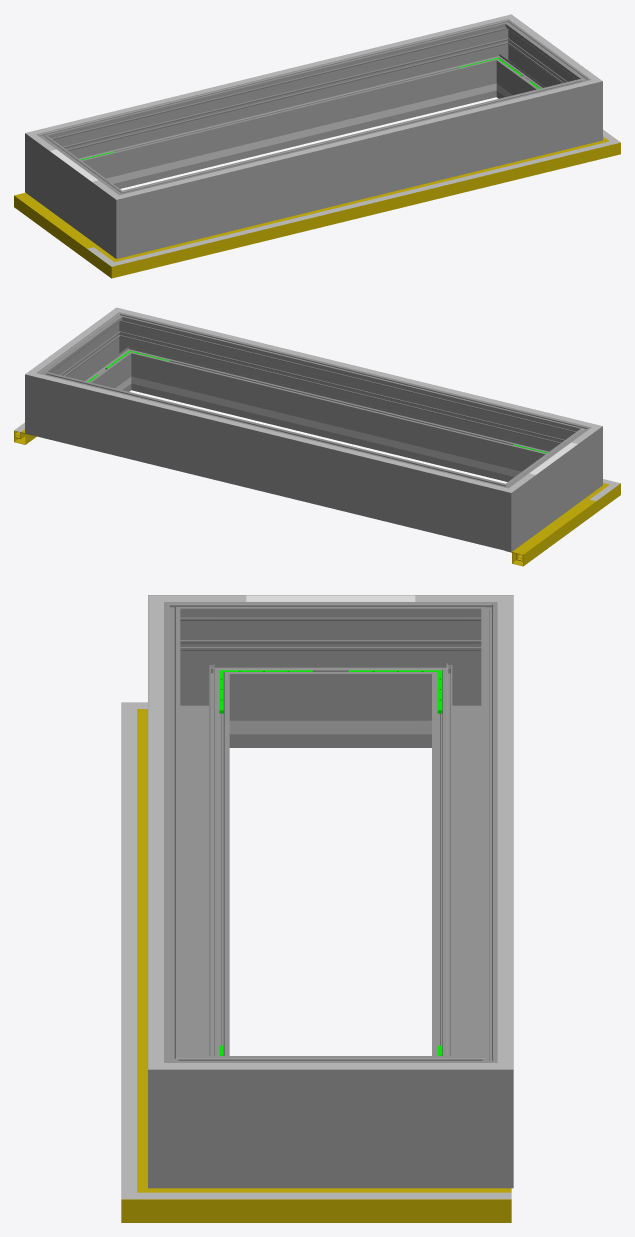
3 views of the same model, one above another, from view 1: azimuth 30°, elevation 25°; view 2: azimuth 150°, elevation 25°; view 3: azimuth 270°, elevation 25° (orthographic). The views are drawn at different scales.
Visible parts, largest first — view 1: 3DGeom-276, 3DGeom-298, 3DGeom-11, 3DGeom-270, 3DGeom-290, 3DGeom-268, 3DGeom-244, 3DGeom-284, 3DGeom-297, 3DGeom-278, 3DGeom-20, 3DGeom-304 (+6 smaller); view 2: 3DGeom-298, 3DGeom-276, 3DGeom-278, 3DGeom-284, 3DGeom-268, 3DGeom-239, 3DGeom-290, 3DGeom-297, 3DGeom-270, 3DGeom-304, 3DGeom-316, 3DGeom-6 (+3 smaller); view 3: 3DGeom-298, 3DGeom-276, 3DGeom-268, 3DGeom-297, 3DGeom-284, 3DGeom-290, 3DGeom-278, 3DGeom-270, 3DGeom-16, 3DGeom-20, 3DGeom-304, 3DGeom-316 (+12 smaller).
Part boxes in pixels (x1=…): 3DGeom-276: x1=71, y1=27, x2=489, y2=188; 3DGeom-298: x1=151, y1=86, x2=560, y2=248; 3DGeom-11: x1=148, y1=148, x2=578, y2=267; 3DGeom-270: x1=92, y1=178, x2=158, y2=258; 3DGeom-290: x1=552, y1=63, x2=602, y2=150; 3DGeom-268: x1=49, y1=147, x2=105, y2=240; 3DGeom-244: x1=121, y1=93, x2=455, y2=181; 3DGeom-284: x1=473, y1=14, x2=528, y2=98; 3DGeom-297: x1=500, y1=32, x2=577, y2=97; 3DGeom-278: x1=25, y1=125, x2=87, y2=209; 3DGeom-20: x1=150, y1=150, x2=577, y2=256; 3DGeom-304: x1=68, y1=25, x2=472, y2=125; 3DGeom-298: x1=138, y1=321, x2=556, y2=481; 3DGeom-276: x1=67, y1=379, x2=476, y2=541; 3DGeom-278: x1=469, y1=472, x2=535, y2=552; 3DGeom-284: x1=25, y1=356, x2=75, y2=443; 3DGeom-268: x1=522, y1=440, x2=578, y2=533; 3DGeom-239: x1=172, y1=386, x2=505, y2=474; 3DGeom-290: x1=97, y1=307, x2=154, y2=391; 3DGeom-297: x1=56, y1=326, x2=127, y2=391; 3DGeom-270: x1=540, y1=419, x2=602, y2=502; 3DGeom-304: x1=68, y1=382, x2=472, y2=482; 3DGeom-316: x1=155, y1=318, x2=559, y2=418; 3DGeom-6: x1=506, y1=498, x2=596, y2=566; 3DGeom-298: x1=148, y1=636, x2=229, y2=1055; 3DGeom-276: x1=432, y1=636, x2=513, y2=1055; 3DGeom-268: x1=246, y1=595, x2=415, y2=747; 3DGeom-297: x1=246, y1=1056, x2=415, y2=1188; 3DGeom-284: x1=415, y1=1028, x2=513, y2=1188; 3DGeom-290: x1=148, y1=1028, x2=245, y2=1188; 3DGeom-278: x1=415, y1=595, x2=513, y2=747; 3DGeom-270: x1=148, y1=595, x2=245, y2=747; 3DGeom-16: x1=219, y1=1188, x2=511, y2=1222; 3DGeom-20: x1=121, y1=744, x2=137, y2=1157; 3DGeom-304: x1=497, y1=636, x2=513, y2=1028; 3DGeom-316: x1=148, y1=636, x2=163, y2=1028.
Bounding box in the file's own units: 1.83 × 0.2434 × 0.6096.
